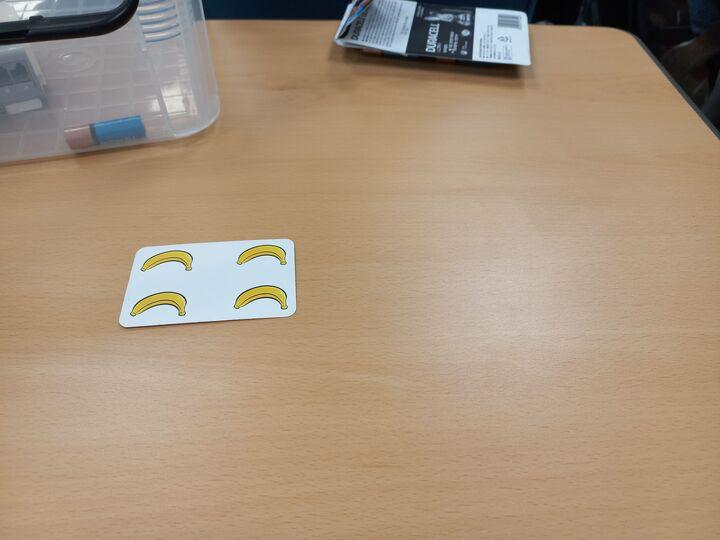banana4: (118, 237, 301, 330)
